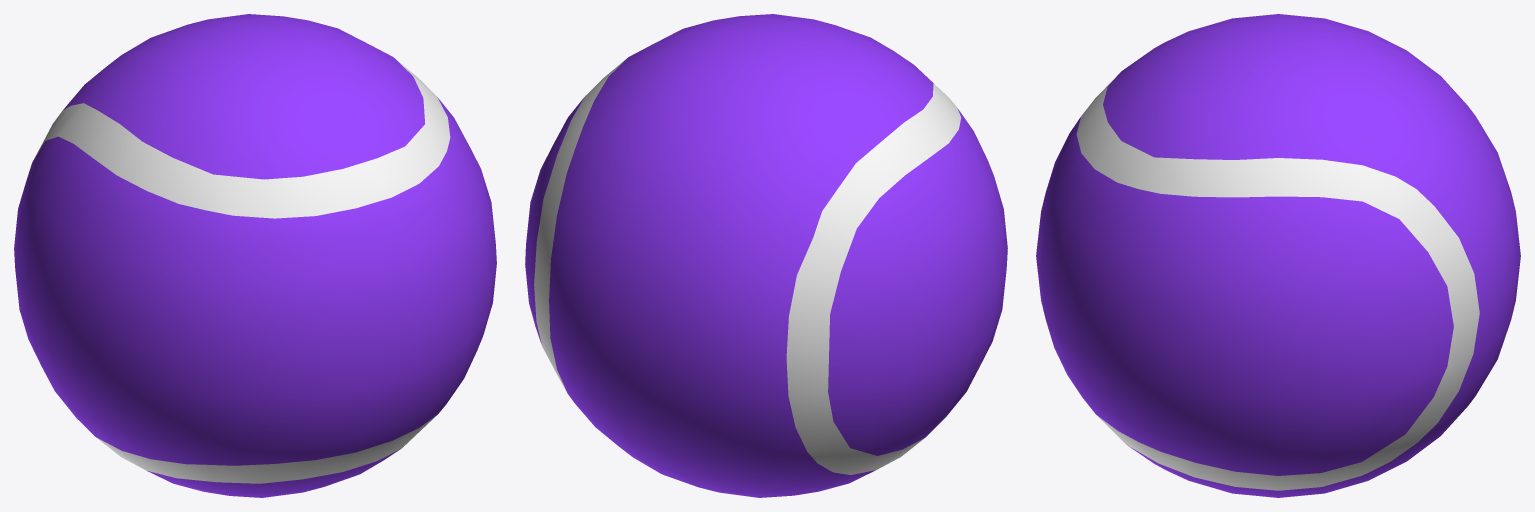
The model's file is Tennisball_Purple.fbx.
3 renders of one model, left to right at view 1: azimuth 30°, elevation 25°; view 2: azimuth 150°, elevation 25°; view 3: azimuth 270°, elevation 25°, orthographic.
Parts seen in each view (by area): view 1: Tennisball_Purple; view 2: Tennisball_Purple; view 3: Tennisball_Purple.
Part boxes in pixels (x1,y1,x2,y2): Tennisball_Purple: [14, 14, 496, 497]; Tennisball_Purple: [525, 14, 1007, 497]; Tennisball_Purple: [1036, 14, 1520, 497].
Size of the model in its own units: 92.63 by 92.63 by 92.63.
